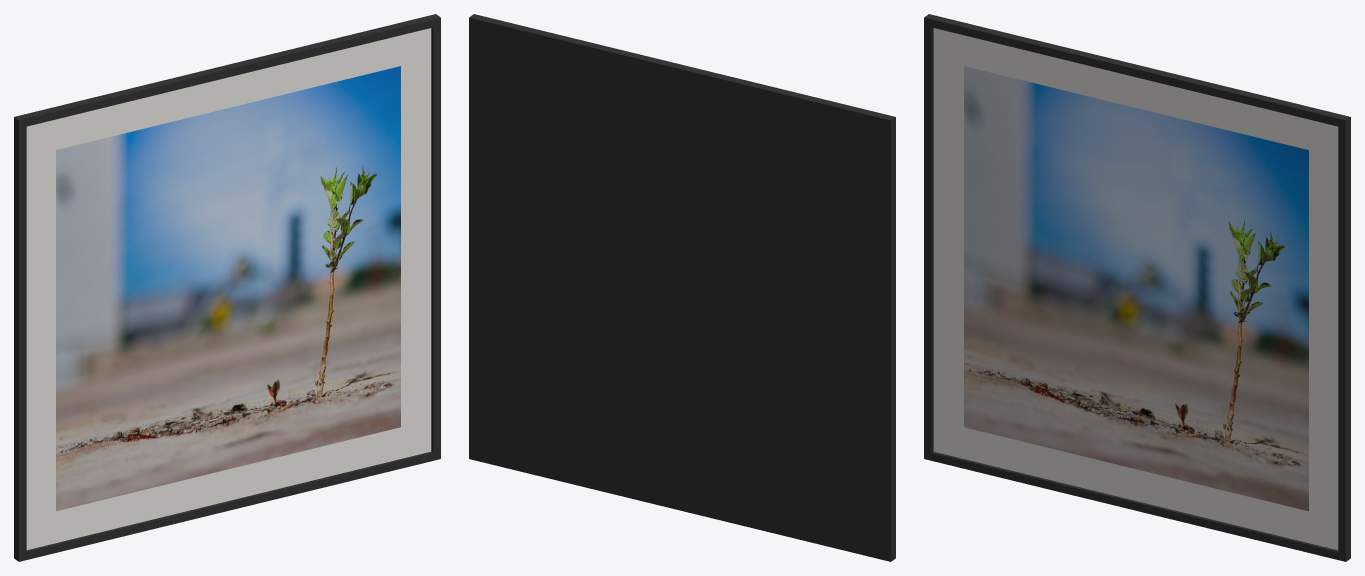
Rendered from grodden-90.gltf.
The picture shows the model from 3 angles, left to right: view 1: azimuth 30°, elevation 25°; view 2: azimuth 150°, elevation 25°; view 3: azimuth 330°, elevation 25°; orthographic projection.
Parts seen in each view (by area): view 1: tavla; view 2: tavla; view 3: tavla.
Boxes of the visible parts, <box> form: tavla: <box>14,14,440,561</box>; tavla: <box>469,14,895,561</box>; tavla: <box>924,14,1350,561</box>.
Bounding box in the file's own units: 1.1 × 1.1 × 0.022.
Materials: 3 (1 with a texture image).
